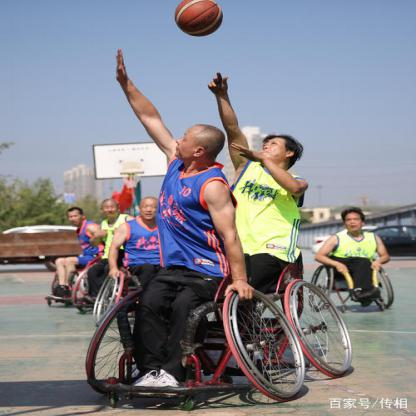wheelchair: (86, 55, 304, 408), (181, 70, 356, 377), (97, 196, 185, 317), (309, 203, 398, 314), (45, 205, 121, 313)
